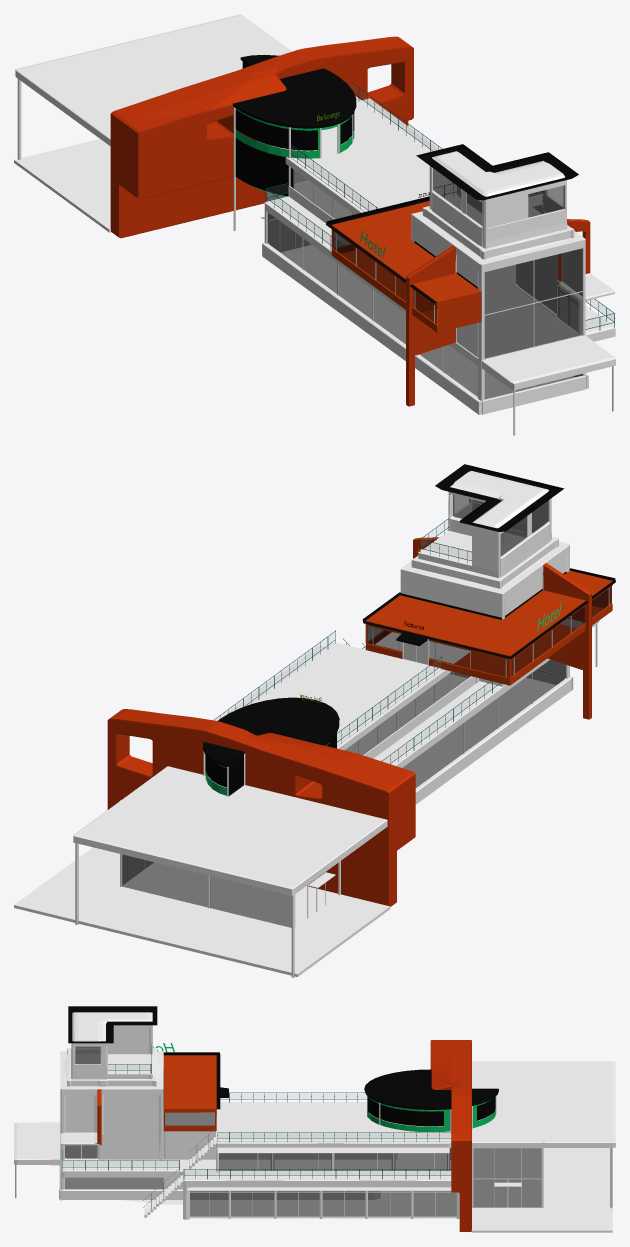
Rendered from Italiandesignhotel1.0.obj.
3 renders of one model, top to bottom at view 1: azimuth 30°, elevation 25°; view 2: azimuth 150°, elevation 25°; view 3: azimuth 270°, elevation 25°, orthographic. The views are drawn at different scales.
Parts seen in each view (by area): view 1: Cube.001, Cube.004, Cube.003, Plane.009, Cube.005, Cube.068_Cube.125, Plane.007, Circle.002, Cube.028_Cube.113, Cube.026_Cube.036, Circle.001, Plane.004_Plane.037 (+15 smaller); view 2: Cube.001, Cube.028_Cube.113, Cube.003, Cube.004, Cube.005, Cube.068_Cube.125, Plane.002_Plane.003, Plane.007, Circle.002, Cube.002, Plane.011, Plane.004_Plane.037 (+8 smaller); view 3: Cube.001, Cube, Cube.003, Cube.028_Cube.113, Cube.068_Cube.125, Plane.003_Plane.004, Cube.004, Plane.005, Plane_Plane.001, Cube.005, Cube.002, Cube.034_Cube.119 (+17 smaller).
Boxes of the visible parts, left/top/right/bottom form: Cube.001: left=262, top=151, right=615, bottom=414; Cube.004: left=110, top=36, right=413, bottom=238; Cube.003: left=15, top=14, right=431, bottom=152; Plane.009: left=484, top=248, right=582, bottom=358; Cube.005: left=331, top=201, right=481, bottom=332; Cube.068_Cube.125: left=276, top=99, right=429, bottom=211; Plane.007: left=268, top=213, right=477, bottom=396; Circle.002: left=233, top=55, right=356, bottom=128; Cube.028_Cube.113: left=14, top=139, right=111, bottom=232; Cube.026_Cube.036: left=484, top=285, right=580, bottom=358; Circle.001: left=235, top=61, right=354, bottom=196; Plane.004_Plane.037: left=416, top=144, right=578, bottom=200; Cube.001: left=345, top=471, right=599, bottom=804; Cube.028_Cube.113: left=14, top=847, right=390, bottom=976; Cube.003: left=73, top=642, right=387, bottom=895; Cube.004: left=107, top=709, right=415, bottom=906; Cube.005: left=365, top=570, right=612, bottom=685; Cube.068_Cube.125: left=255, top=643, right=441, bottom=745; Plane.002_Plane.003: left=122, top=854, right=291, bottom=927; Plane.007: left=403, top=659, right=565, bottom=787; Circle.002: left=203, top=697, right=339, bottom=767; Cube.002: left=337, top=632, right=479, bottom=758; Plane.011: left=367, top=626, right=508, bottom=677; Plane.004_Plane.037: left=435, top=464, right=564, bottom=531; Cube.001: left=14, top=1012, right=380, bottom=1204; Cube: left=61, top=1153, right=459, bottom=1219; Cube.003: left=216, top=1061, right=615, bottom=1171; Cube.028_Cube.113: left=471, top=1148, right=612, bottom=1232; Cube.068_Cube.125: left=216, top=1102, right=451, bottom=1141; Plane.003_Plane.004: left=190, top=1191, right=456, bottom=1216; Cube.004: left=430, top=1040, right=471, bottom=1231; Plane.005: left=219, top=1148, right=451, bottom=1170; Plane_Plane.001: left=473, top=1148, right=541, bottom=1207; Cube.005: left=163, top=1055, right=228, bottom=1131; Cube.002: left=163, top=1102, right=397, bottom=1159; Cube.034_Cube.119: left=187, top=1147, right=521, bottom=1191.
Size of what is drawn, in the model's own units: 13.3 by 9.22 by 32.18.
